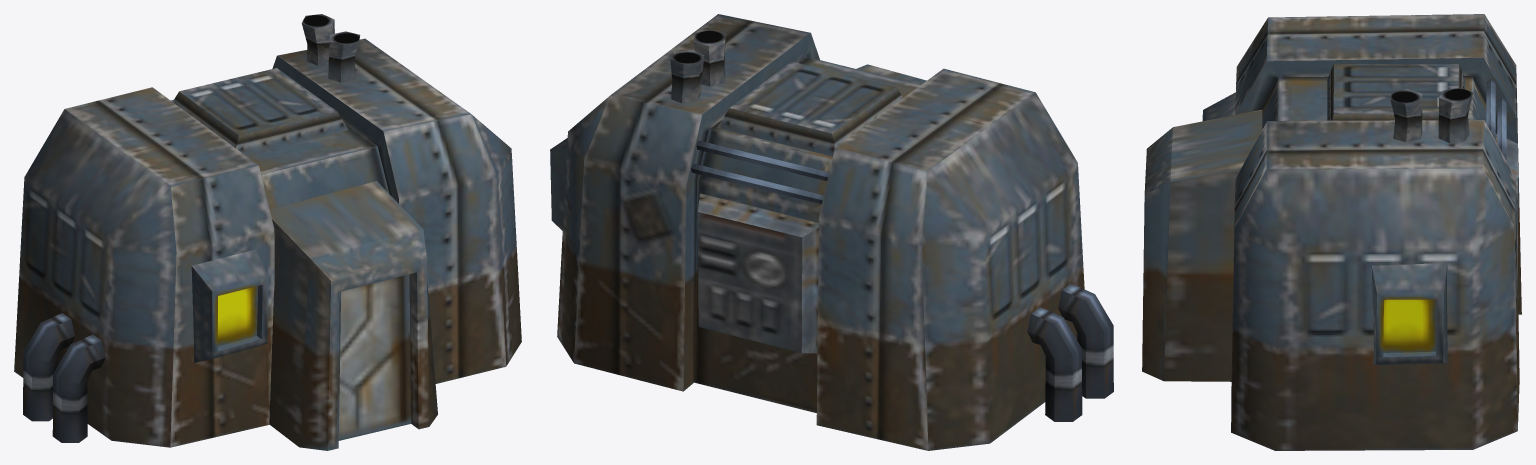
File: SM_EN_1002_xiaojian03.FBX
3 renders of one model, left to right at view 1: azimuth 30°, elevation 25°; view 2: azimuth 150°, elevation 25°; view 3: azimuth 270°, elevation 25°, orthographic. The views are drawn at different scales.
Visible parts, largest first — view 1: SM_EN_1002_xiaojian03; view 2: SM_EN_1002_xiaojian03; view 3: SM_EN_1002_xiaojian03.
Part boxes in pixels (x1,y1,x2,y2): SM_EN_1002_xiaojian03: (14, 14, 521, 450); SM_EN_1002_xiaojian03: (550, 14, 1113, 450); SM_EN_1002_xiaojian03: (1142, 14, 1521, 450).
Bounding box in the file's own units: 100 × 59.44 × 68.16.
